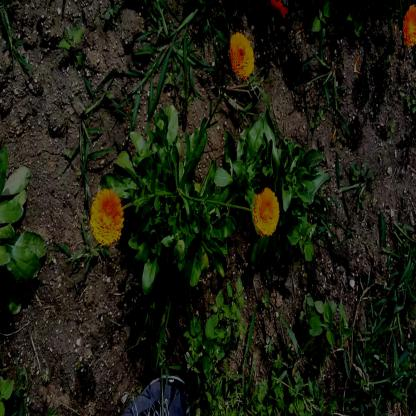marigold: (90, 188, 124, 245), (254, 188, 280, 235), (229, 34, 254, 78), (402, 3, 415, 47)
